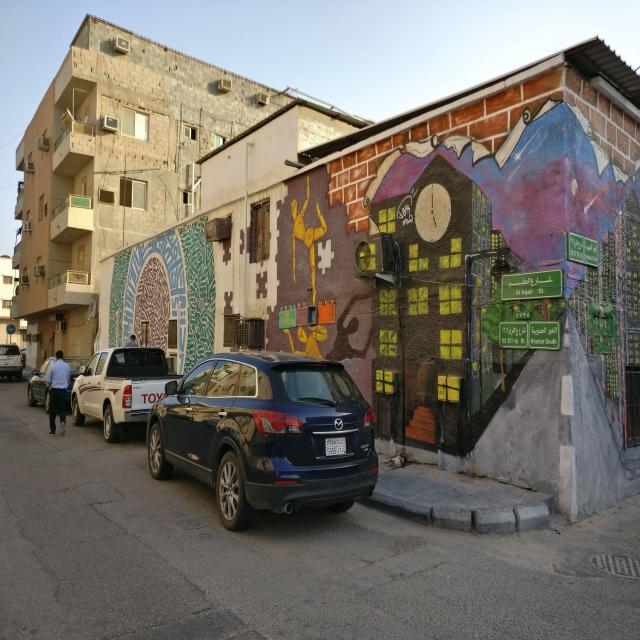license_plate: (325, 436, 346, 456)
